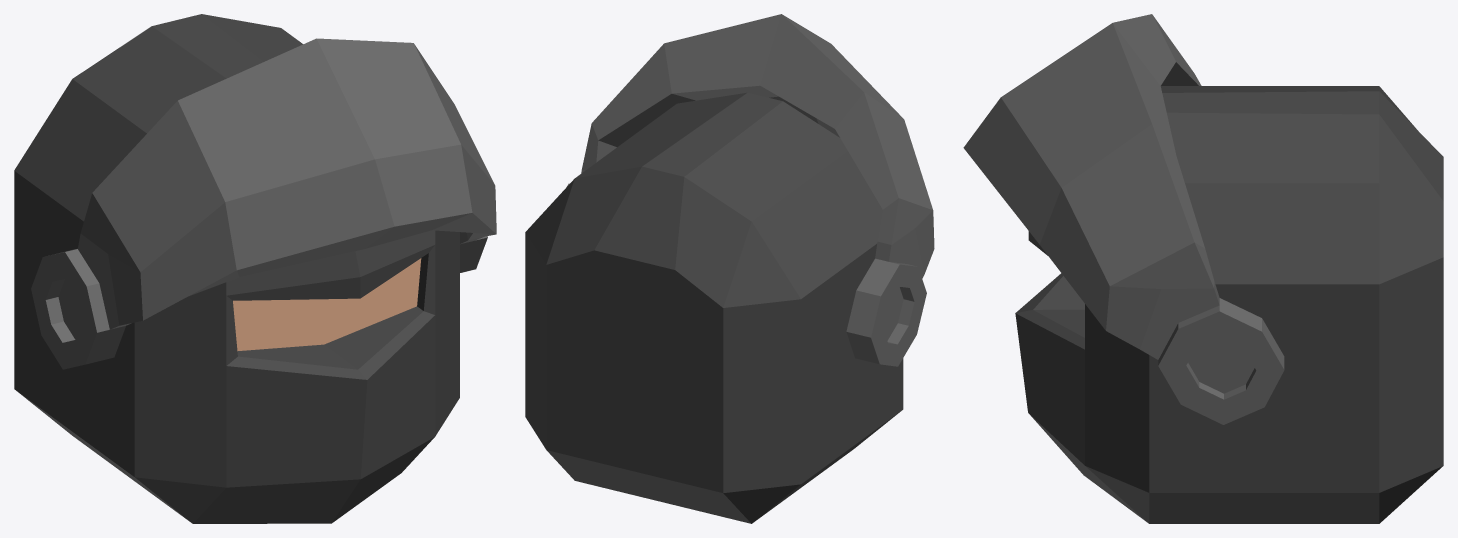
Rendered from Plated Helmet.fbx.
The picture shows the model from 3 angles, left to right: view 1: azimuth 30°, elevation 25°; view 2: azimuth 150°, elevation 25°; view 3: azimuth 270°, elevation 25°; orthographic projection. The views are drawn at different scales.
Visible parts, largest first — view 1: Box008; view 2: Box008; view 3: Box008.
Boxes of the visible parts, x1,y1,x2,y2 form: Box008: (14, 14, 496, 523); Box008: (525, 14, 934, 523); Box008: (963, 14, 1443, 523).
Bounding box in the file's own units: 17.21 × 19.94 × 19.17.
